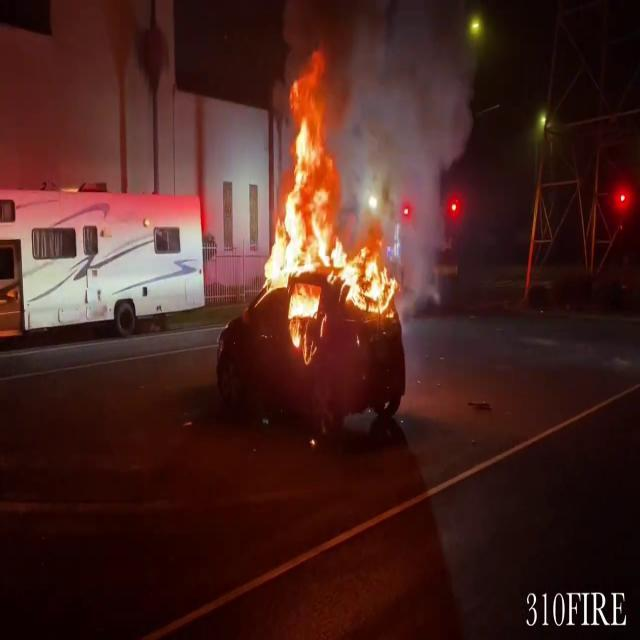Fire: (259, 53, 397, 344), (339, 233, 399, 320)
Smoke: (317, 1, 487, 221)
